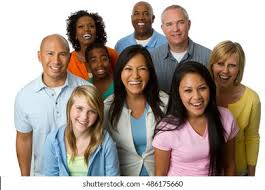person: (173, 61, 212, 116), (117, 45, 154, 97), (66, 85, 103, 134), (211, 40, 245, 89), (37, 33, 72, 79), (160, 4, 192, 45), (73, 12, 103, 45), (85, 44, 111, 79), (130, 1, 156, 35)
